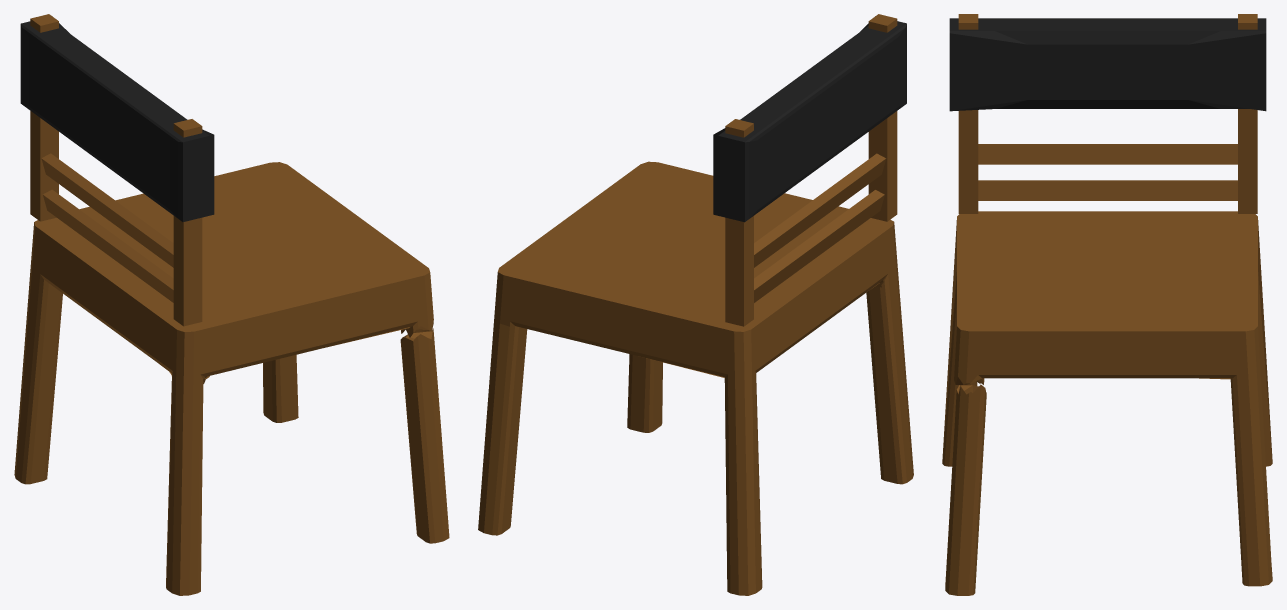
File: BrokenChair.fbx
3 views of the same model, side by side, from view 1: azimuth 30°, elevation 25°; view 2: azimuth 150°, elevation 25°; view 3: azimuth 270°, elevation 25° (orthographic). The views are drawn at different scales.
Parts seen in each view (by area): view 1: Seat, Back, BrokenLeg; view 2: Seat, Back, BrokenLeg; view 3: Seat, Back, BrokenLeg.
Boxes of the visible parts, left/top/right/bottom form: Seat: left=14, top=162, right=433, bottom=595; Back: left=20, top=14, right=214, bottom=326; BrokenLeg: left=400, top=328, right=449, bottom=543; Seat: left=478, top=161, right=913, bottom=595; Back: left=713, top=14, right=906, bottom=326; BrokenLeg: left=627, top=354, right=662, bottom=432; Seat: left=942, top=211, right=1272, bottom=586; Back: left=949, top=14, right=1266, bottom=213; BrokenLeg: left=945, top=384, right=986, bottom=595.
Size of the model in its own units: 99.25 by 160 by 105.
